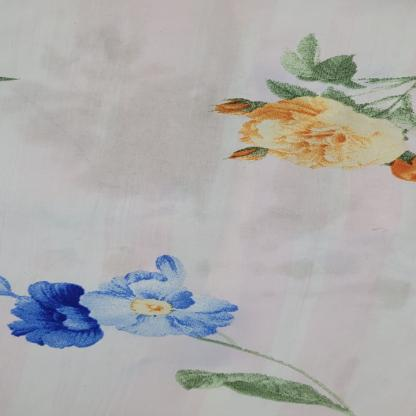spot: (220, 197, 319, 248), (263, 254, 265, 255)
